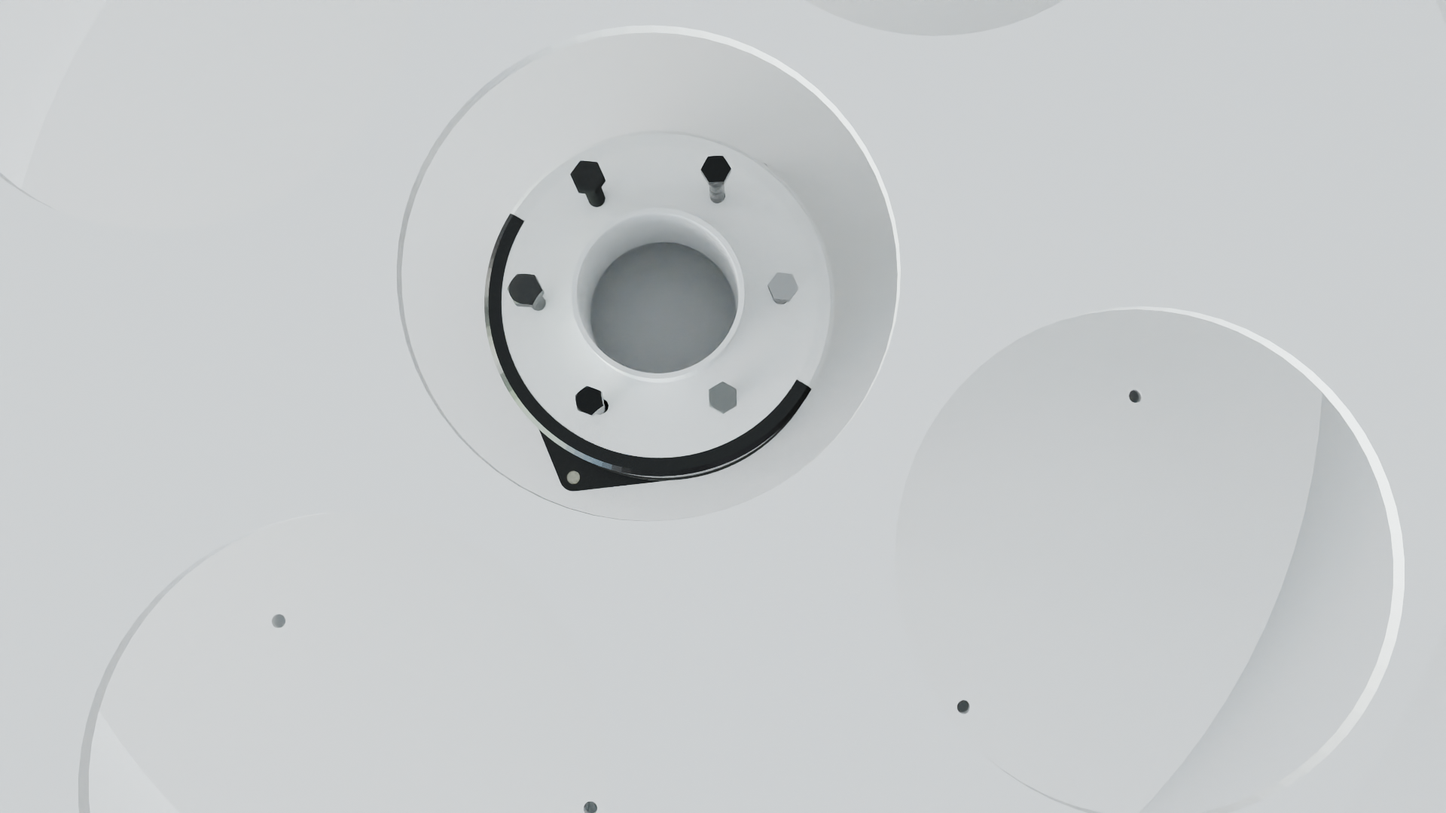bolt: (570, 160, 605, 191), (507, 274, 542, 305), (709, 382, 737, 413), (575, 386, 603, 416), (768, 273, 798, 300), (700, 156, 731, 182)
